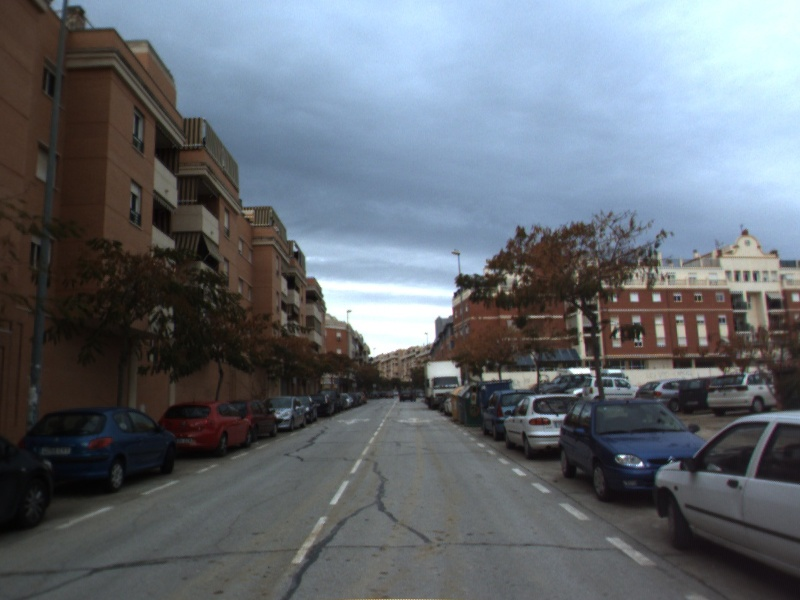STRAIGHT_LEFT_RIGHT: (395, 415, 436, 426)
